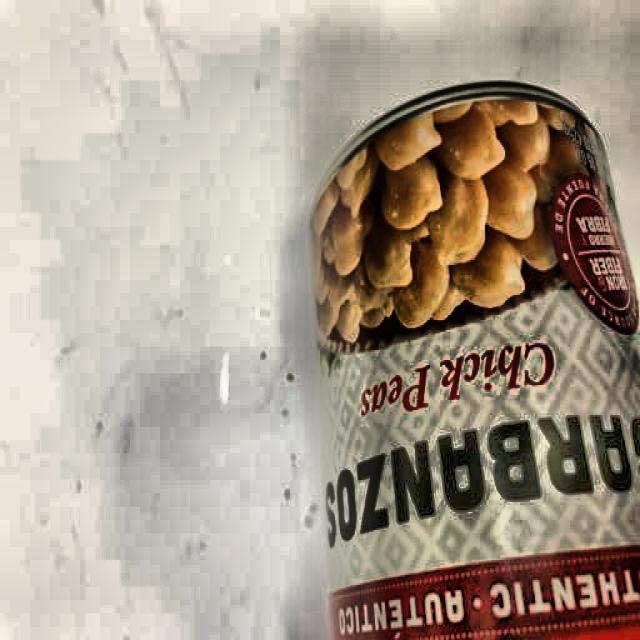metal: (295, 74, 640, 638)
